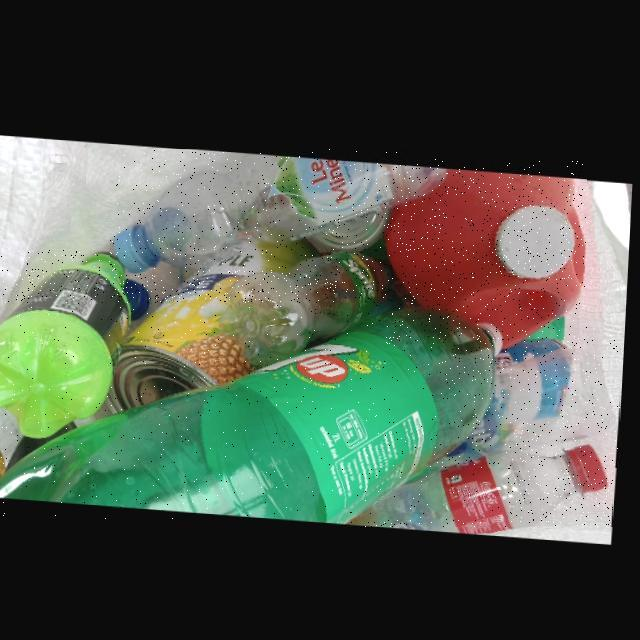metal: (110, 235, 324, 411), (308, 203, 394, 251)
plastic: (0, 304, 508, 519), (117, 149, 448, 270), (385, 162, 587, 342), (0, 251, 134, 438), (433, 341, 620, 468), (351, 438, 613, 527), (221, 247, 390, 365)
